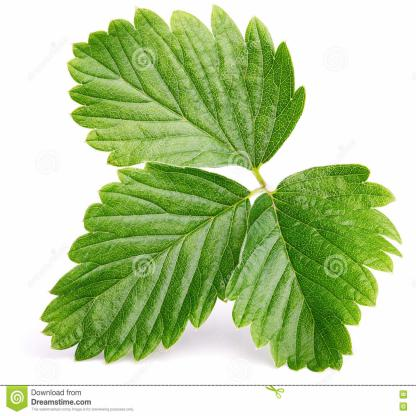Strawberry leaf: (35, 157, 261, 370), (59, 1, 309, 169), (231, 169, 404, 375)
